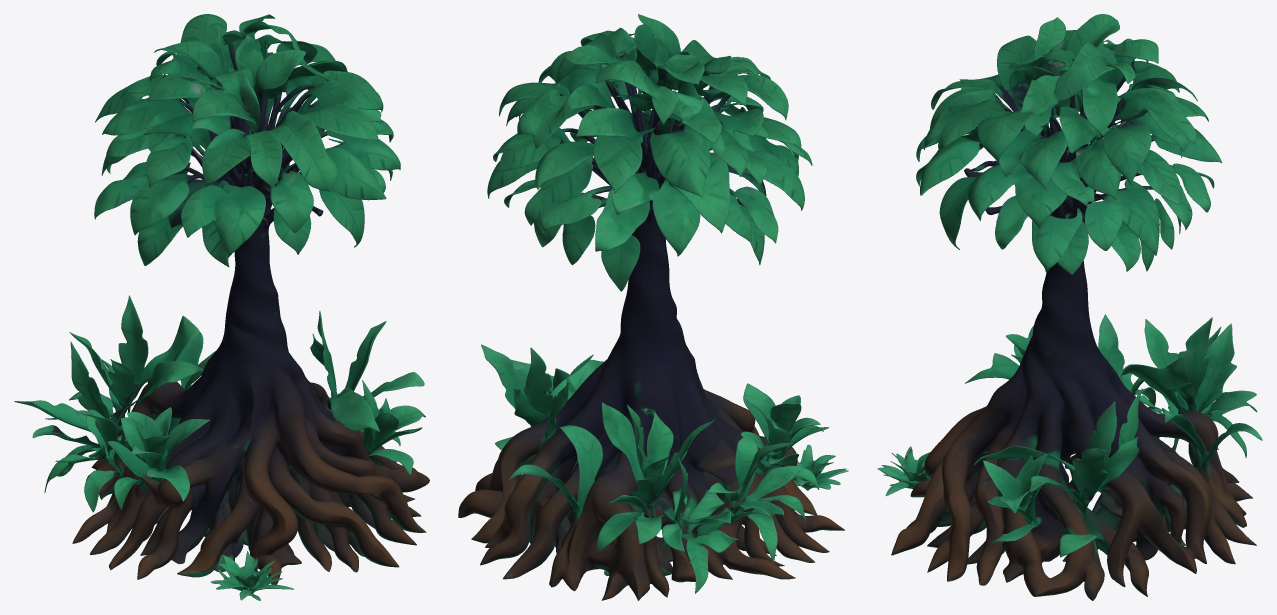
Rendered from altitude_sapopoema.glb.
3 views of the same model, side by side, from view 1: azimuth 30°, elevation 25°; view 2: azimuth 150°, elevation 25°; view 3: azimuth 270°, elevation 25° (orthographic). The views are drawn at different scales.
Bounding box in the file's own units: 1.34 × 1.89 × 1.34.
1 material, 1 textured.
